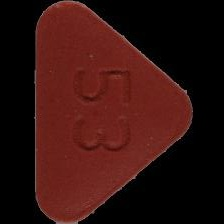65862-618: (0, 0, 224, 224)
